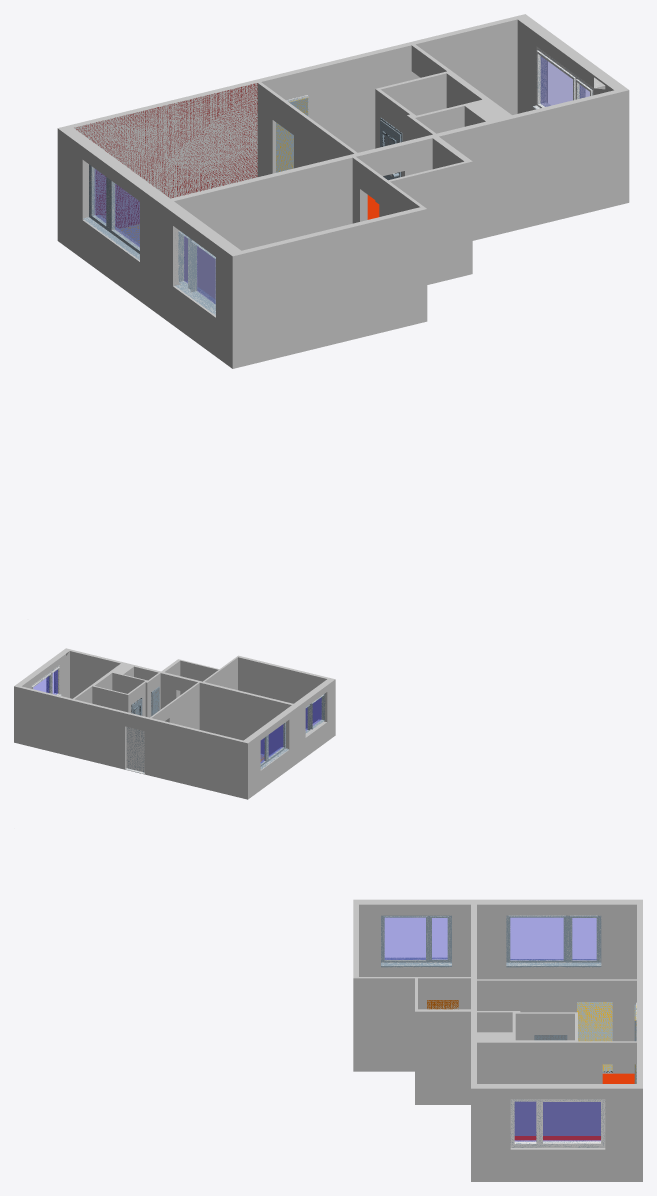
File: byt_v2.0.obj
3 renders of one model, top to bottom at view 1: azimuth 30°, elevation 25°; view 2: azimuth 150°, elevation 25°; view 3: azimuth 270°, elevation 25°, orthographic. The views are drawn at different scales.
Visible parts, largest first — view 1: Mesh21 Walls1 Model, Mesh27 WindowRoom1 Model, Mesh28 WindowBedRoom1 Model, Mesh26 WindowsKitchen1 Model, Mesh23 DoorMain1 Model; view 2: Mesh21 Walls1 Model, Mesh23 DoorMain1 Model, Mesh27 WindowRoom1 Model, Mesh28 WindowBedRoom1 Model, Mesh26 WindowsKitchen1 Model; view 3: Mesh21 Walls1 Model, Mesh27 WindowRoom1 Model, Mesh26 WindowsKitchen1 Model, Mesh28 WindowBedRoom1 Model, Mesh29 FloorRoom1 Model, Mesh33 FloorCoridor1 Model.
Boxes of the visible parts, left/top/right/bottom form: Mesh21 Walls1 Model: left=57, top=14, right=629, bottom=368; Mesh27 WindowRoom1 Model: left=83, top=164, right=139, bottom=259; Mesh28 WindowBedRoom1 Model: left=175, top=231, right=215, bottom=315; Mesh26 WindowsKitchen1 Model: left=532, top=46, right=597, bottom=109; Mesh23 DoorMain1 Model: left=276, top=95, right=308, bottom=172; Mesh21 Walls1 Model: left=14, top=648, right=335, bottom=799; Mesh23 DoorMain1 Model: left=125, top=727, right=144, bottom=774; Mesh27 WindowRoom1 Model: left=260, top=722, right=288, bottom=769; Mesh28 WindowBedRoom1 Model: left=305, top=693, right=325, bottom=735; Mesh26 WindowsKitchen1 Model: left=31, top=665, right=61, bottom=695; Mesh21 Walls1 Model: left=353, top=899, right=642, bottom=1181; Mesh27 WindowRoom1 Model: left=506, top=915, right=601, bottom=967; Mesh26 WindowsKitchen1 Model: left=510, top=1099, right=605, bottom=1147; Mesh28 WindowBedRoom1 Model: left=381, top=915, right=451, bottom=967; Mesh29 FloorRoom1 Model: left=577, top=1002, right=612, bottom=1071; Mesh33 FloorCoridor1 Model: left=514, top=1071, right=634, bottom=1140.
Size of the model in its own units: 21.21 by 2.62 by 15.91.
